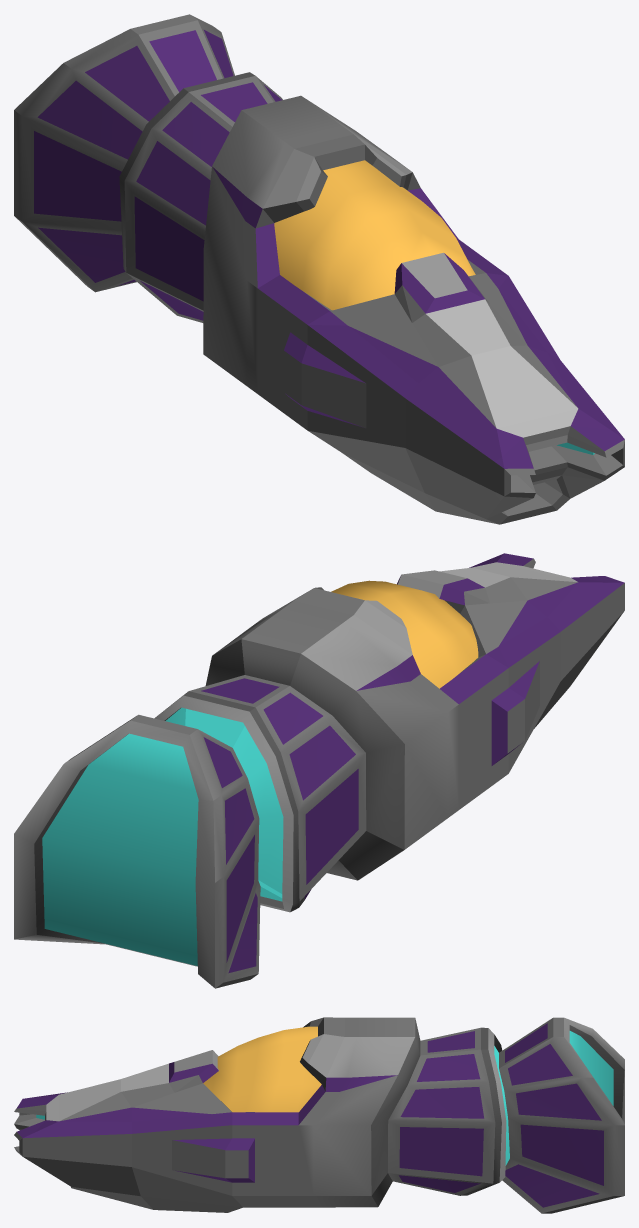
The model's file is Ship_1x3_C2.fbx.
3 views of the same model, one above another, from view 1: azimuth 30°, elevation 25°; view 2: azimuth 150°, elevation 25°; view 3: azimuth 270°, elevation 25° (orthographic). The views are drawn at different scales.
Parts seen in each view (by area): view 1: Ship_1x3_C2; view 2: Ship_1x3_C2; view 3: Ship_1x3_C2.
Part boxes in pixels (x1=…): Ship_1x3_C2: x1=14, y1=14, x2=624, y2=524; Ship_1x3_C2: x1=14, y1=553, x2=624, y2=988; Ship_1x3_C2: x1=14, y1=1017, x2=624, y2=1213.
Size of the model in its own units: 75.18 by 83.52 by 266.
